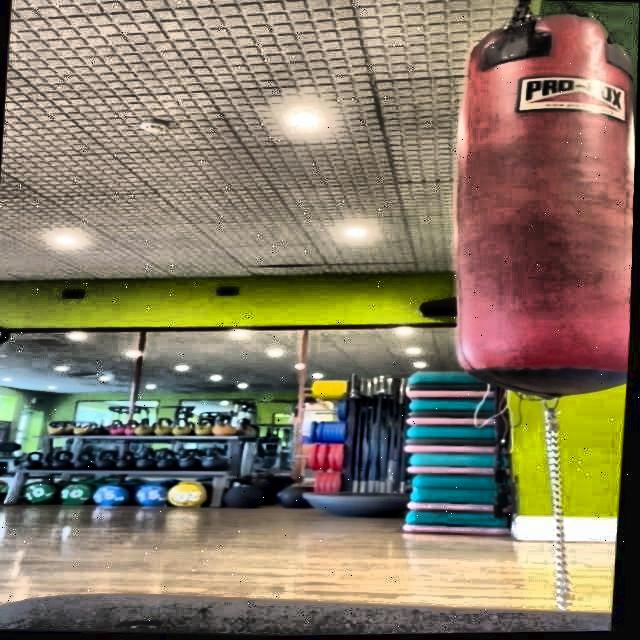boxing-bag: (446, 0, 640, 406)
